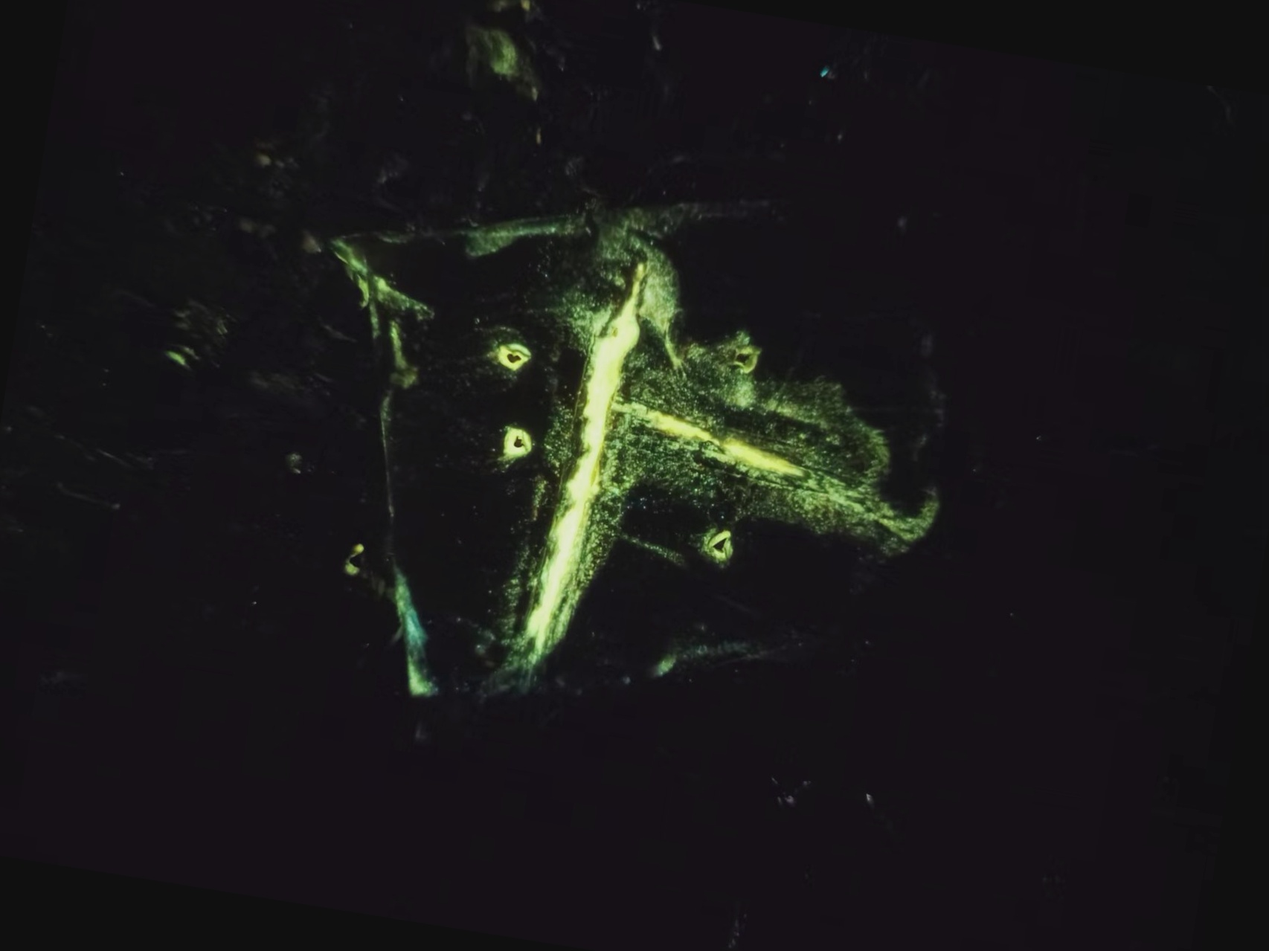Crater: (473, 402, 547, 472), (474, 320, 543, 386), (687, 516, 755, 575)
Fissure: (492, 232, 676, 701), (601, 388, 939, 555)
